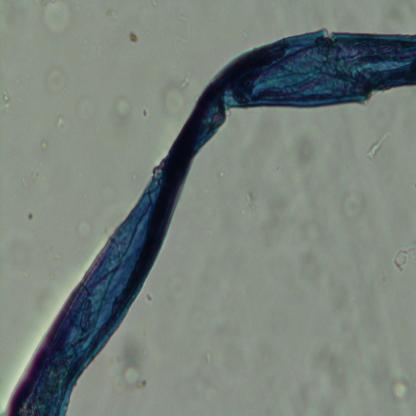Background material: (278, 205, 334, 288), (303, 343, 351, 408), (0, 227, 46, 274), (113, 336, 149, 394), (283, 121, 322, 170), (178, 306, 223, 345), (234, 179, 265, 231), (164, 272, 200, 310), (41, 2, 79, 36), (160, 81, 186, 119), (364, 132, 391, 165), (342, 192, 367, 221), (390, 375, 414, 405), (77, 216, 102, 244), (392, 244, 416, 271), (46, 68, 66, 94), (18, 171, 41, 193), (114, 96, 132, 120), (32, 134, 52, 154), (52, 115, 71, 132), (194, 349, 214, 363), (0, 92, 11, 112), (143, 291, 156, 307), (127, 30, 139, 43), (24, 209, 34, 224), (142, 110, 150, 119)
Cotton: (0, 28, 415, 416)
